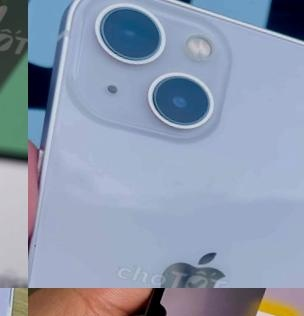screen_defect: (143, 298, 170, 316)
